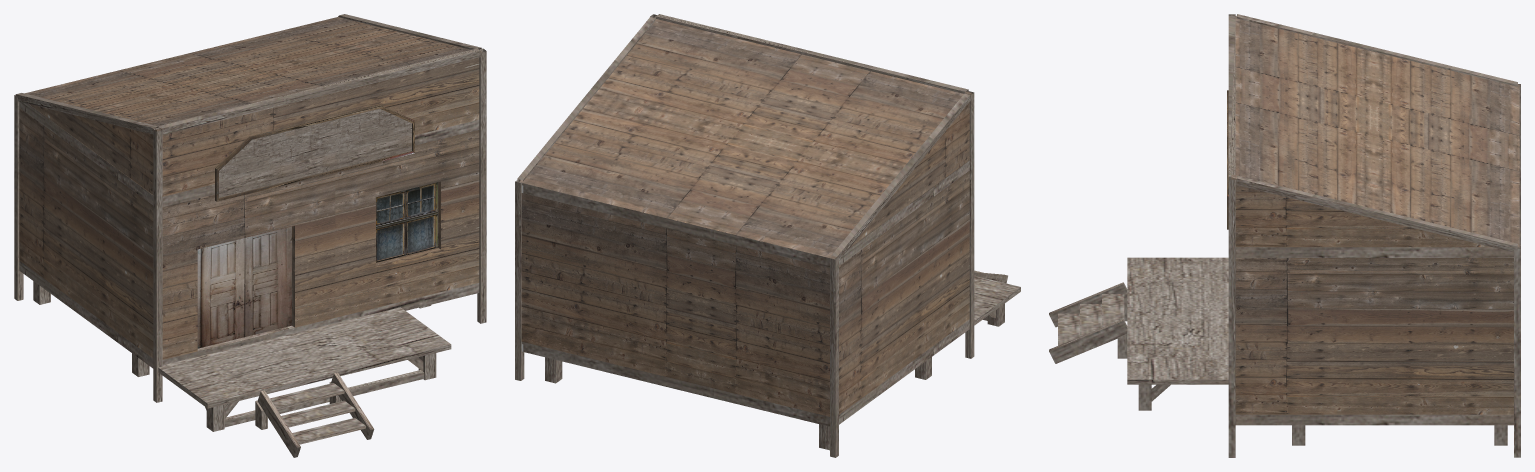
File: House6.fbx
3 renders of one model, left to right at view 1: azimuth 30°, elevation 25°; view 2: azimuth 150°, elevation 25°; view 3: azimuth 270°, elevation 25°, orthographic. The views are drawn at different scales.
Visible parts, largest first — view 1: House1, Box438, Box466, Box437, Box463, Box461, Box458, Box462, Box464, Box444, Box460, Box450 (+5 smaller); view 2: House1, Box437, Box461, Box464, Box463, Box460, Box458, Box459, Box465, Box438; view 3: House1, Box438, Box437, Box461, Box465, Box462, Box464, Box459, Box456, Box463, Box453, Box450 (+2 smaller).
Boxes of the visible parts, x1=… form: House1: x1=19, y1=17, x2=481, y2=359; Box438: x1=158, y1=307, x2=451, y2=408; Box466: x1=215, y1=105, x2=414, y2=201; Box437: x1=19, y1=261, x2=479, y2=368; Box463: x1=159, y1=48, x2=480, y2=134; Box461: x1=19, y1=101, x2=479, y2=206; Box458: x1=153, y1=127, x2=162, y2=402; Box462: x1=477, y1=48, x2=486, y2=323; Box464: x1=16, y1=93, x2=158, y2=134; Box444: x1=224, y1=370, x2=424, y2=427; Box460: x1=14, y1=94, x2=23, y2=300; Box450: x1=270, y1=383, x2=344, y2=409; House1: x1=519, y1=16, x2=971, y2=416; Box437: x1=521, y1=319, x2=969, y2=426; Box461: x1=519, y1=161, x2=969, y2=267; Box464: x1=831, y1=93, x2=970, y2=260; Box463: x1=655, y1=14, x2=968, y2=93; Box460: x1=830, y1=258, x2=838, y2=457; Box458: x1=965, y1=91, x2=974, y2=358; Box459: x1=515, y1=179, x2=524, y2=380; Box465: x1=517, y1=17, x2=655, y2=182; Box438: x1=974, y1=275, x2=1020, y2=325; House1: x1=1231, y1=15, x2=1519, y2=414; Box438: x1=1127, y1=257, x2=1228, y2=384; Box437: x1=1235, y1=414, x2=1513, y2=425; Box461: x1=1235, y1=247, x2=1519, y2=257; Box465: x1=1235, y1=175, x2=1517, y2=252; Box462: x1=1228, y1=176, x2=1235, y2=457; Box464: x1=1236, y1=14, x2=1517, y2=86; Box459: x1=1514, y1=246, x2=1520, y2=457; Box456: x1=1049, y1=319, x2=1127, y2=363; Box463: x1=1228, y1=15, x2=1235, y2=176; Box453: x1=1049, y1=282, x2=1127, y2=327; Box450: x1=1102, y1=294, x2=1124, y2=327.
Bounding box in the file's own units: 678 × 548 × 818.
